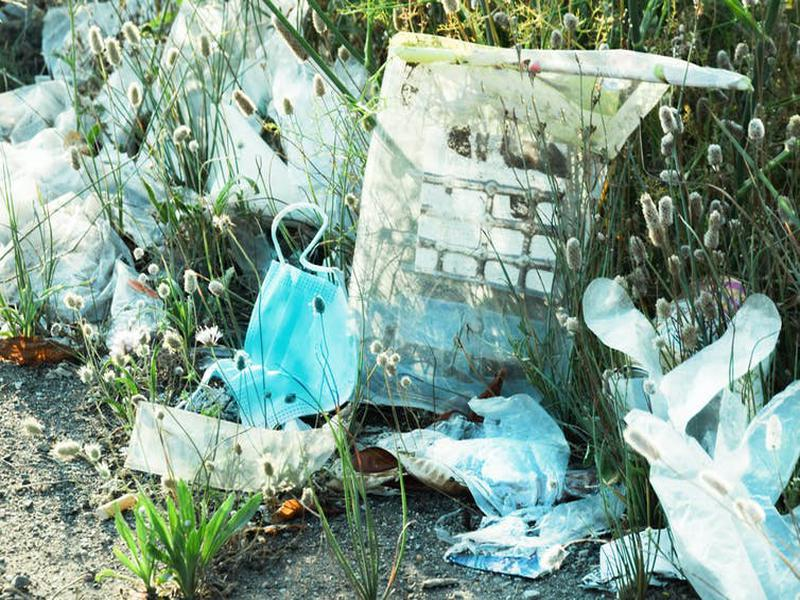gloves: (577, 271, 800, 600)
mask: (189, 201, 362, 439)
plastic: (395, 390, 577, 522)
